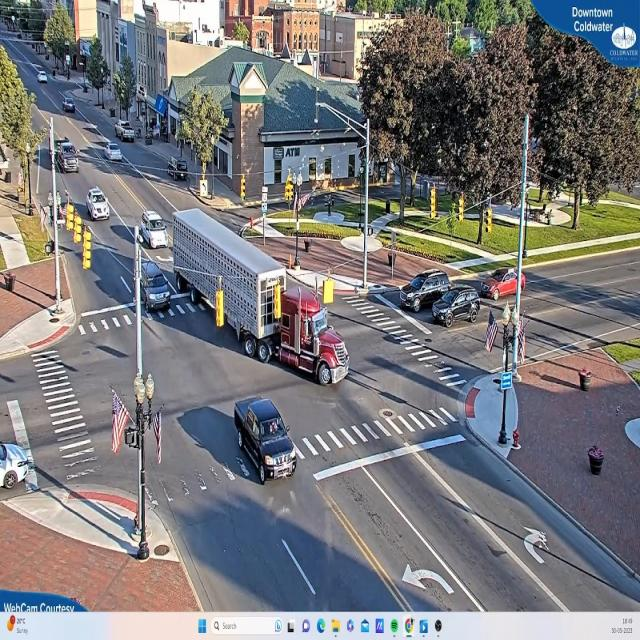car: (234, 396, 300, 485), (400, 272, 454, 313), (139, 257, 172, 317), (0, 444, 40, 492), (432, 289, 480, 327), (483, 271, 528, 303), (140, 209, 169, 246), (54, 142, 80, 173), (86, 188, 111, 220), (117, 120, 137, 145), (61, 96, 76, 112), (40, 75, 50, 85)
truck: (172, 206, 352, 390)
